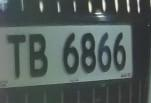6: (60, 29, 82, 80), (96, 28, 114, 76), (112, 28, 129, 74)
8: (79, 29, 99, 78)
B: (26, 28, 51, 82)
T: (4, 29, 28, 83)
